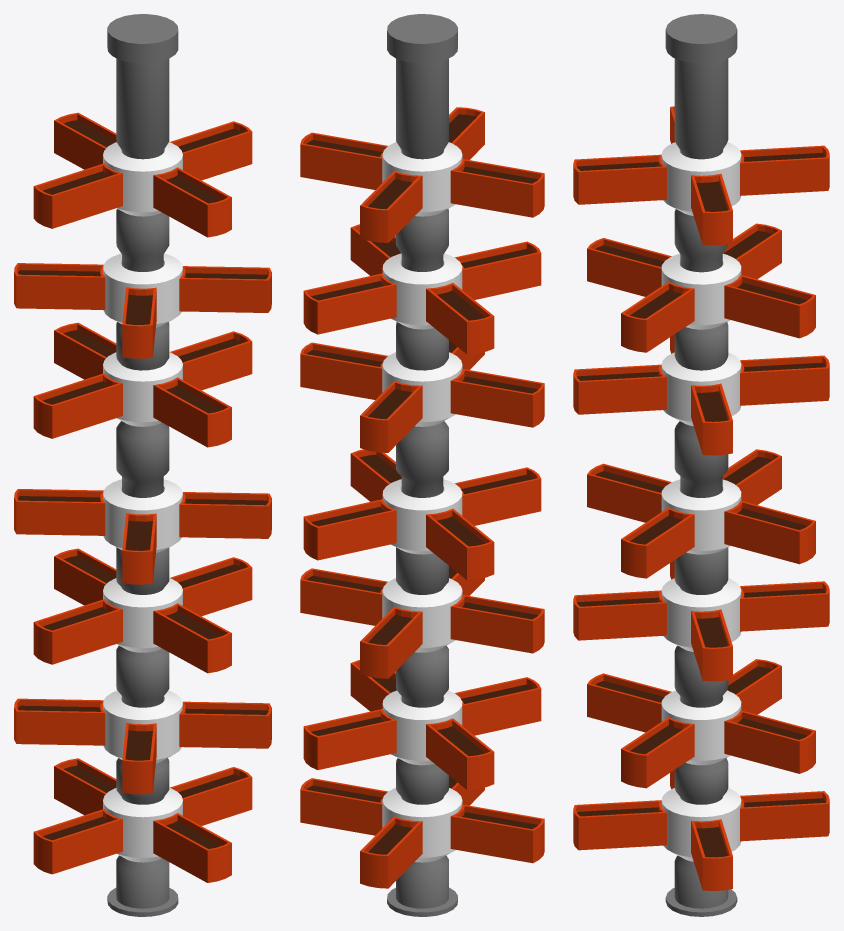
Rendered from S_assete_tank_parti_1.fbx.
The picture shows the model from 3 angles, left to right: view 1: azimuth 30°, elevation 25°; view 2: azimuth 150°, elevation 25°; view 3: azimuth 270°, elevation 25°; orthographic projection.
Visible parts, largest first — view 1: baque001; view 2: baque001; view 3: baque001.
Part boxes in pixels (left/top/right/bottom): baque001: left=14, top=14, right=271, bottom=916; baque001: left=300, top=14, right=544, bottom=916; baque001: left=573, top=14, right=829, bottom=916.
Bounding box in the file's own units: 145 × 545 × 145.
